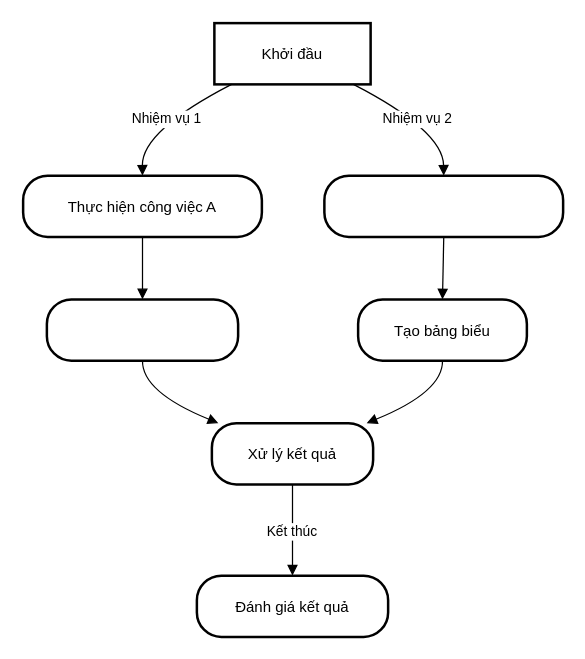
The diagram is 585 pixels wide and 659 high, and some of its shapes have lost their labels. Each missing label, with the centre of its shape:
"Phân tích dữ liệu" belongs at point 142,329.
"Thực hiện công việc B" belongs at point 443,206.
